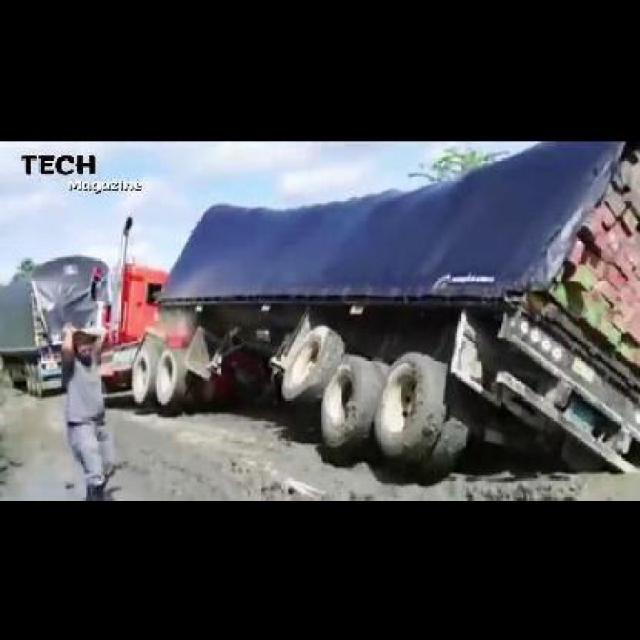accident: (84, 144, 638, 478)
